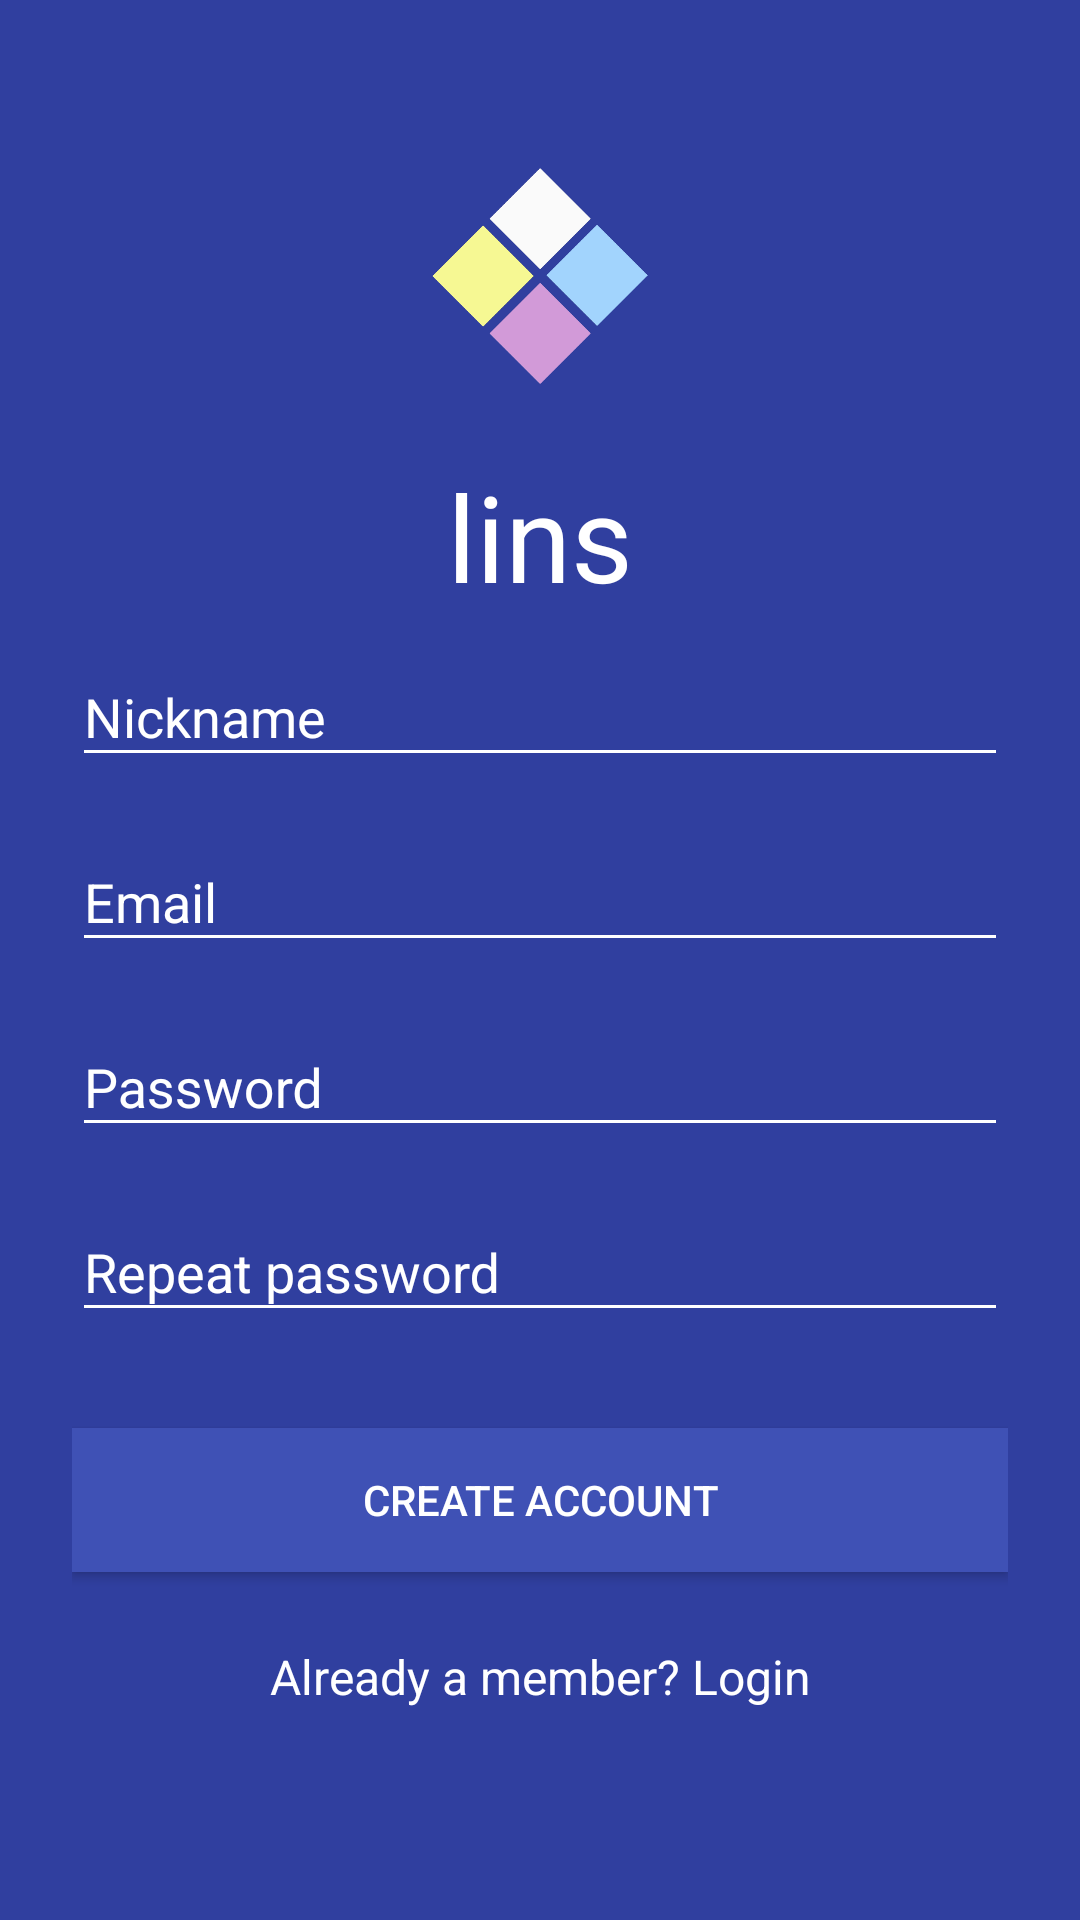

Icon click points for this 1080w x 1920h phone screenshot, format point (x, y):
diam: point (540, 276)
